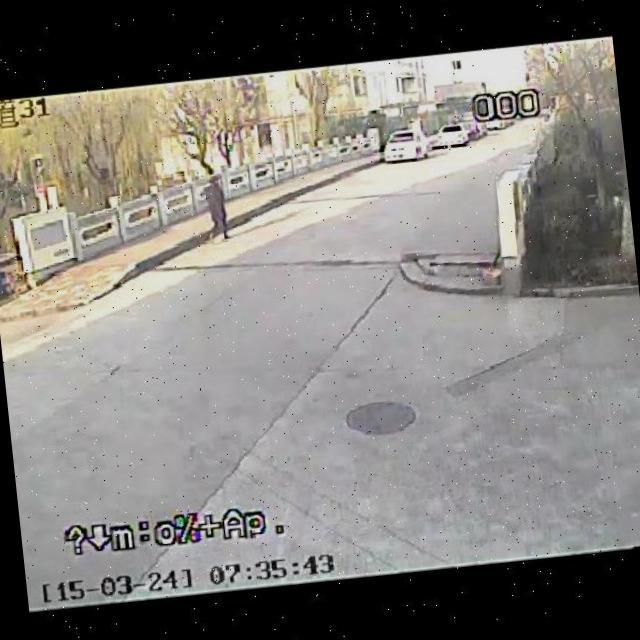person: (182, 160, 246, 250)
